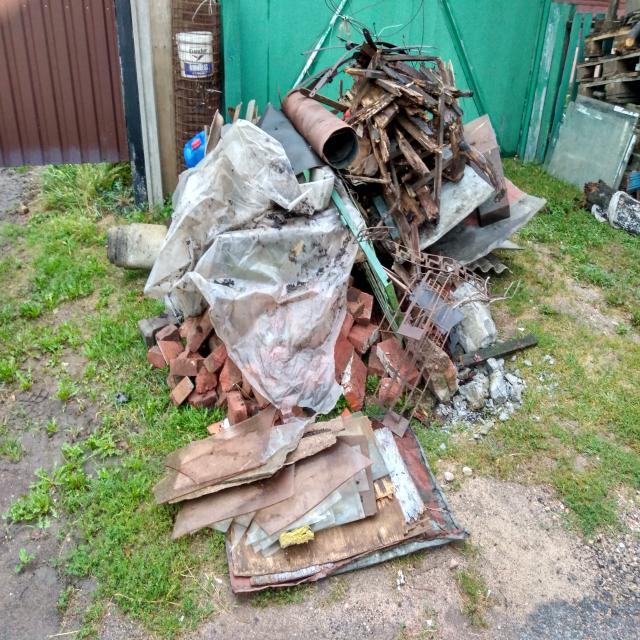entulho: (224, 411, 463, 602), (280, 38, 467, 240), (150, 409, 383, 558), (139, 107, 303, 306), (206, 281, 368, 421), (360, 280, 467, 421), (328, 178, 412, 338), (542, 92, 638, 197), (428, 200, 552, 279), (418, 267, 507, 357), (575, 57, 640, 103), (175, 31, 214, 81), (582, 18, 632, 56)
